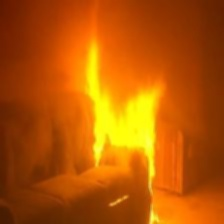fire: (62, 35, 173, 212)
